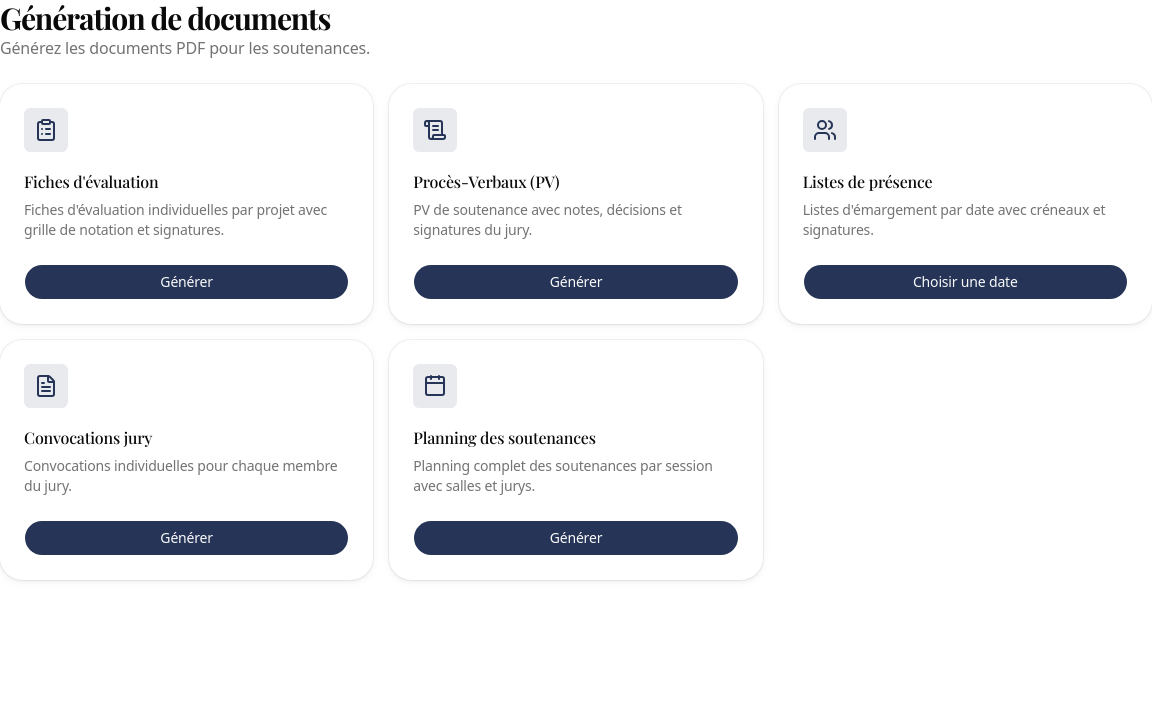
Documents (Coordinator) › opens picker dialog and shows projects for evaluation sheets
Click the 1st button "Générer". click: click(187, 282)
box: [24,264,349,300]
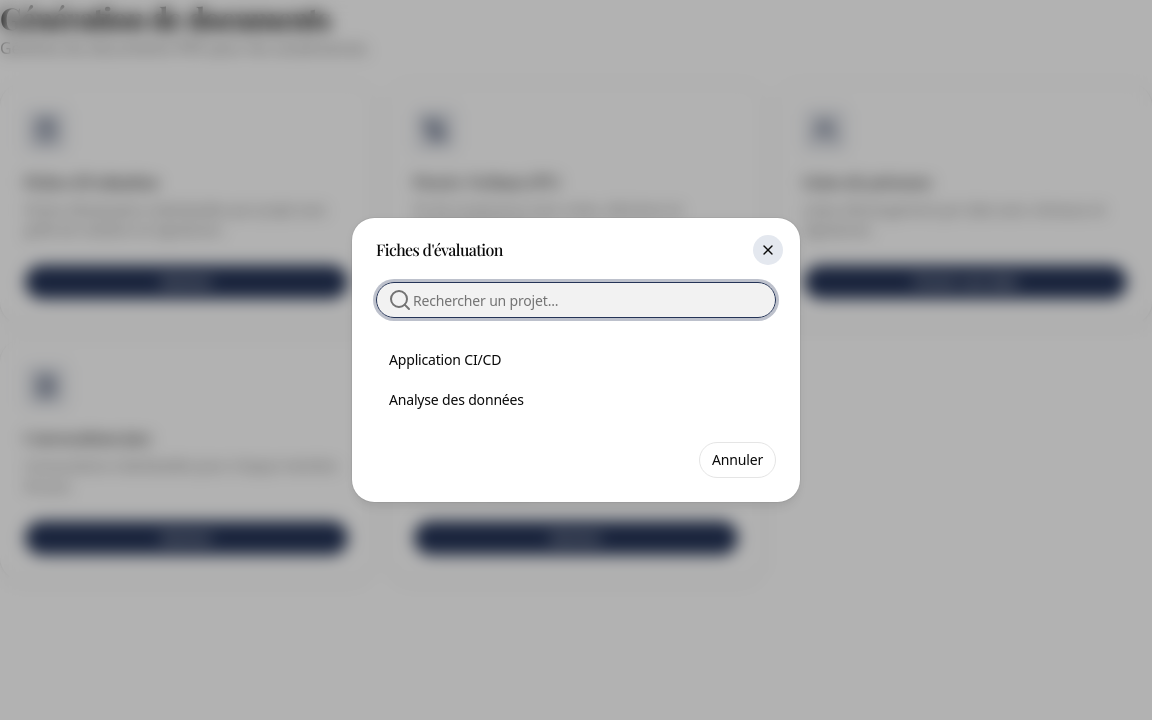
Expected: the dialog with test id "coord-documents-picker-dialog" is shown, [352,218,800,502]
Expected: the button "Application CI/CD" is shown, [376,342,776,378]
Expected: the button "Analyse des données" is shown, [376,382,776,418]
